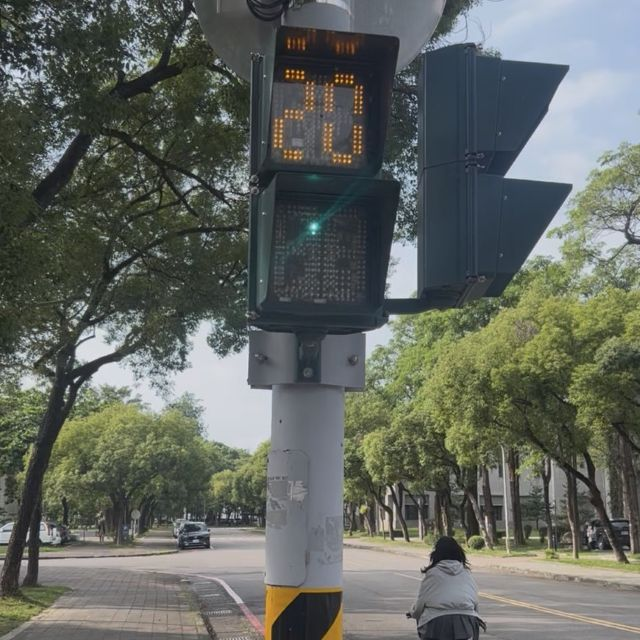green_light: (252, 25, 401, 328)
